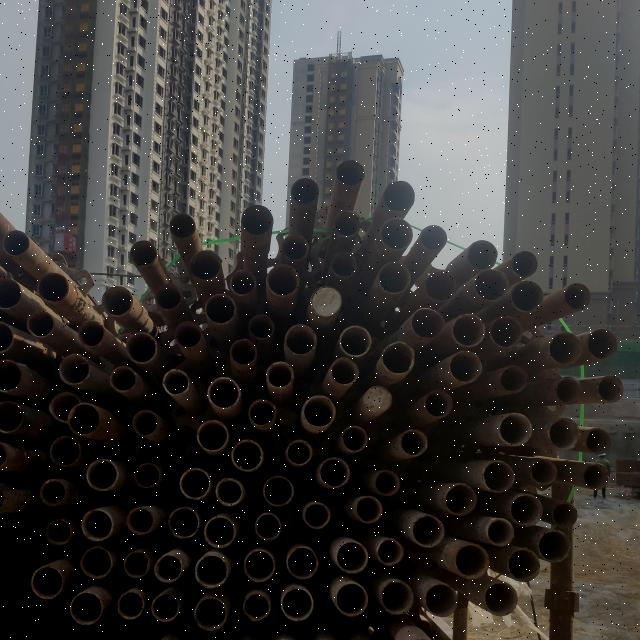pipe: (67, 588, 106, 628), (454, 541, 492, 581), (78, 544, 116, 580), (509, 280, 547, 316), (379, 578, 415, 615), (443, 482, 479, 518), (264, 263, 302, 297), (208, 374, 242, 412), (473, 268, 511, 302), (197, 416, 230, 455), (302, 394, 338, 429), (497, 412, 532, 448), (187, 248, 224, 282), (203, 515, 240, 549), (193, 554, 230, 588), (86, 457, 122, 491), (310, 283, 344, 319), (166, 506, 202, 540), (334, 583, 370, 617), (412, 513, 446, 549), (484, 582, 520, 616), (482, 458, 516, 494), (509, 492, 545, 526), (548, 332, 584, 366), (377, 261, 413, 295), (378, 217, 414, 251), (423, 268, 457, 304), (82, 506, 114, 544), (58, 352, 93, 386), (230, 438, 264, 473), (382, 341, 416, 376), (202, 293, 238, 326), (338, 324, 374, 357), (508, 546, 541, 582), (67, 402, 101, 436), (48, 390, 82, 424), (125, 330, 159, 364), (30, 564, 64, 598), (194, 598, 228, 632), (244, 549, 278, 583), (281, 588, 315, 622), (426, 582, 460, 616), (538, 530, 572, 564), (448, 350, 482, 384), (490, 314, 524, 348), (179, 466, 212, 501), (287, 546, 320, 580), (318, 456, 352, 489), (336, 540, 369, 574), (383, 180, 417, 213), (160, 366, 192, 401), (286, 322, 318, 357), (262, 476, 296, 508), (150, 590, 182, 624), (412, 307, 446, 339), (548, 417, 582, 449), (452, 314, 486, 346), (466, 238, 500, 270), (214, 476, 247, 508), (101, 285, 135, 316), (328, 355, 362, 386), (37, 476, 67, 511), (50, 434, 82, 466), (242, 203, 275, 234), (173, 318, 206, 349), (560, 281, 593, 312), (116, 590, 150, 620), (154, 552, 184, 586), (127, 506, 157, 538), (422, 388, 454, 418), (498, 364, 530, 394), (588, 328, 618, 360), (508, 249, 540, 279), (1, 398, 27, 434), (38, 272, 69, 302), (133, 460, 163, 490), (248, 398, 278, 428), (122, 550, 152, 580), (363, 384, 393, 414), (400, 428, 430, 458), (131, 407, 160, 438), (280, 233, 311, 262), (376, 536, 405, 567), (128, 238, 160, 266), (108, 365, 140, 393), (242, 594, 274, 622), (27, 308, 56, 338), (229, 338, 258, 368), (254, 511, 282, 542), (353, 496, 384, 524), (336, 158, 366, 186), (290, 177, 320, 205), (333, 210, 361, 240), (330, 249, 358, 279), (266, 360, 294, 390), (530, 457, 560, 485), (554, 376, 584, 404), (419, 222, 449, 250), (230, 268, 258, 297), (286, 438, 315, 466), (3, 230, 30, 260), (1, 358, 24, 393), (170, 212, 198, 240), (78, 320, 106, 348), (44, 518, 72, 546), (248, 312, 276, 340), (303, 502, 331, 530), (488, 518, 516, 546), (582, 463, 610, 491), (584, 426, 612, 454), (596, 374, 624, 402), (1, 276, 24, 310), (342, 424, 368, 454), (552, 500, 578, 530), (156, 283, 182, 311), (374, 470, 402, 496), (1, 320, 18, 354)
